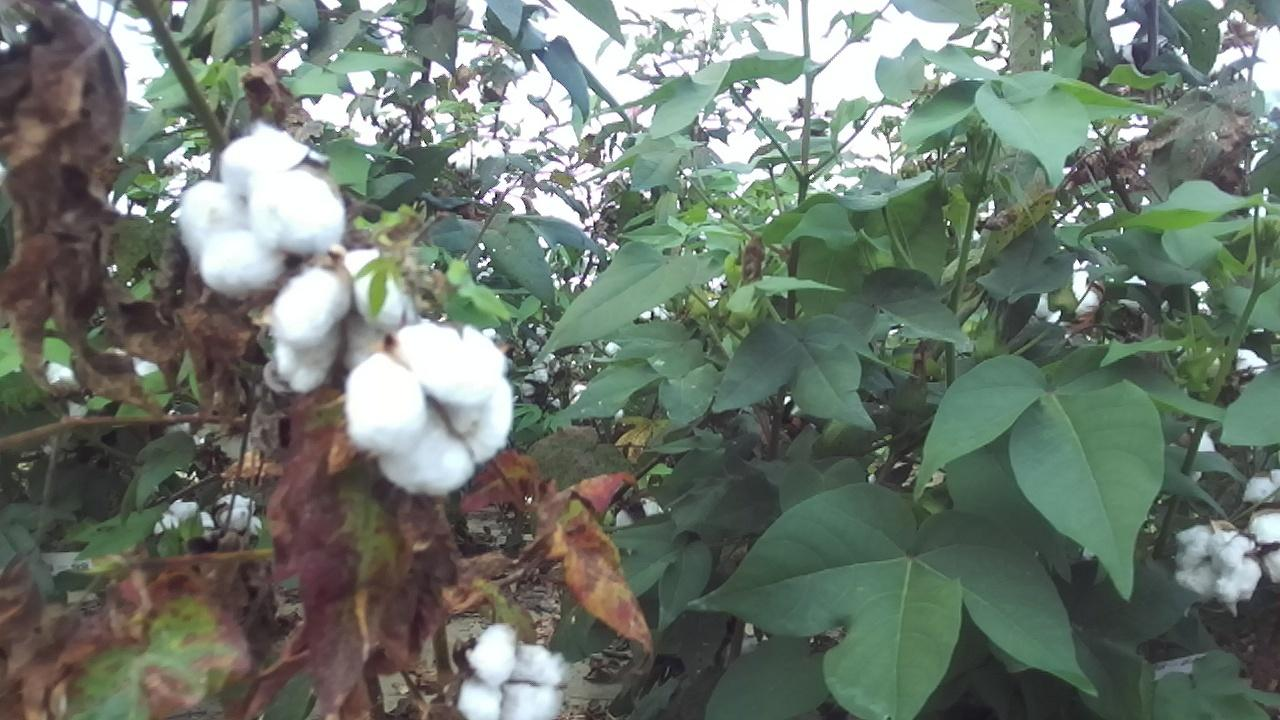cotton_ready: (347, 325, 514, 498), (175, 130, 343, 297), (272, 249, 417, 391), (461, 625, 562, 720), (1178, 531, 1261, 601)
